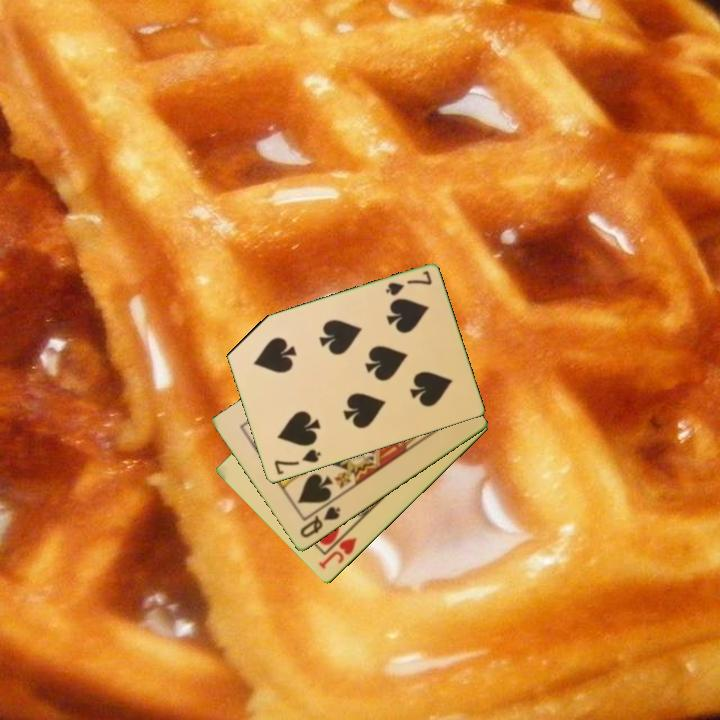7s: (270, 446, 324, 478), (382, 267, 435, 299)
Jh: (315, 525, 360, 573)
Qs: (296, 503, 344, 541)
